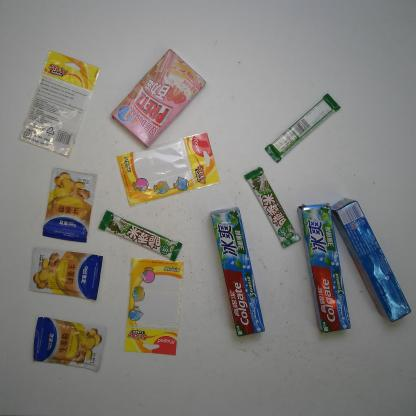Chocolate: (262, 90, 342, 164), (241, 165, 303, 251), (94, 208, 184, 263)
Dessert: (108, 43, 209, 150)
Personal Hygiene: (327, 195, 414, 325), (205, 204, 267, 339), (293, 200, 353, 336)
Seasoner: (29, 314, 111, 374), (38, 164, 99, 244), (24, 244, 104, 303)
Stationery: (16, 48, 102, 159), (113, 128, 224, 210), (120, 255, 187, 360)
